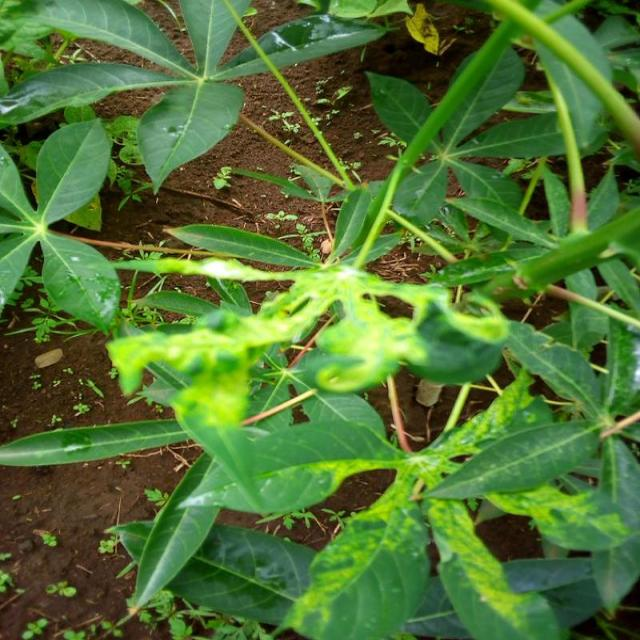Mosaico: (289, 381, 592, 625), (129, 238, 481, 402)
